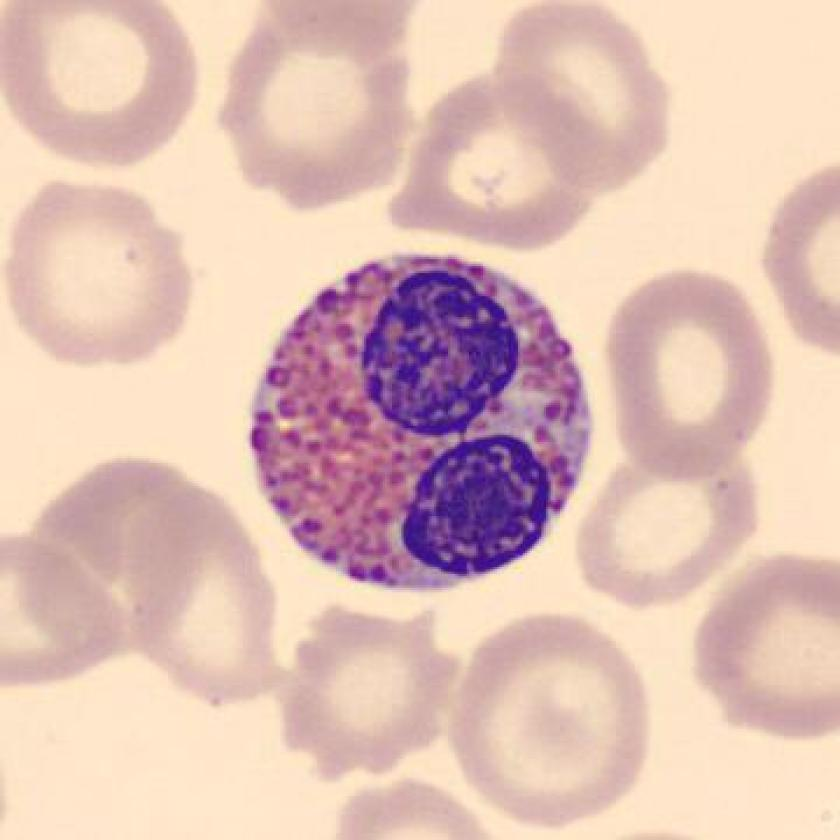eosinophil: (241, 232, 601, 612)
